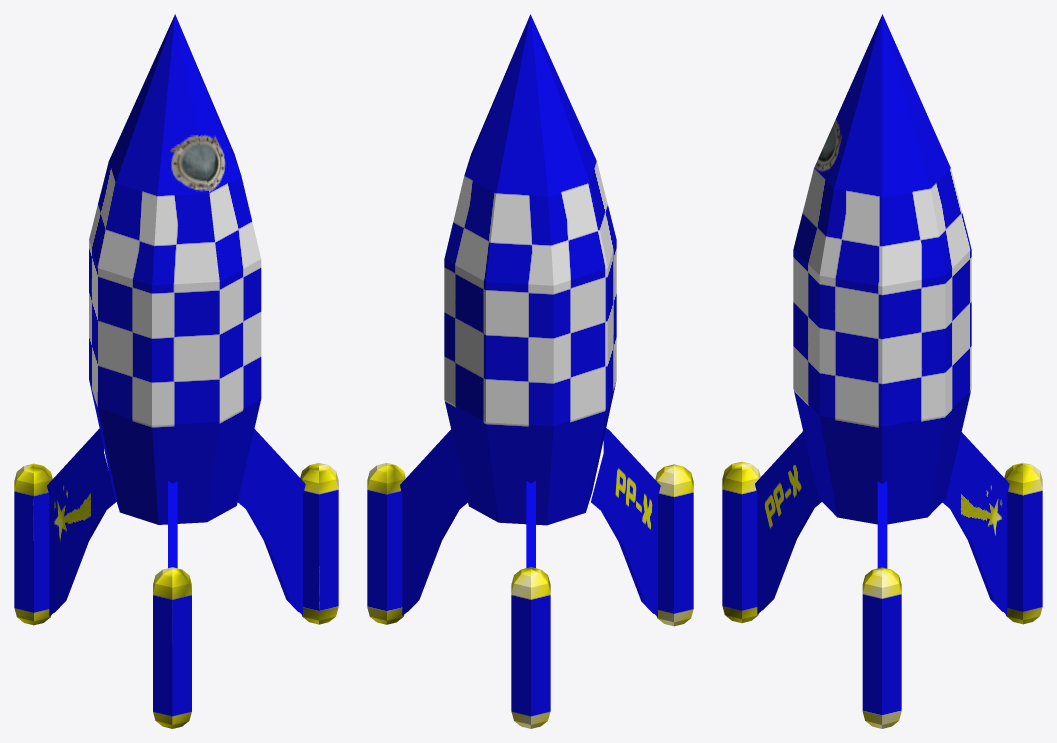
Rendered from rocket.obj.
The picture shows the model from 3 angles, left to right: view 1: azimuth 30°, elevation 25°; view 2: azimuth 150°, elevation 25°; view 3: azimuth 270°, elevation 25°; orthographic projection.
Visible parts, largest first — view 1: Rocket, wing03, wing01, reactor02, reactor01, reactor03, wing02; view 2: Rocket, wing02, wing01, reactor03, reactor02, reactor01, wing03; view 3: Rocket, wing03, wing02, reactor01, reactor03, reactor02, wing01.
Part boxes in pixels (box(x1,y1,x2,y2)): Rocket: box(89, 14, 261, 524); wing03: box(47, 428, 116, 616); wing01: box(237, 429, 305, 614); reactor02: box(153, 567, 191, 728); reactor01: box(300, 463, 338, 624); reactor03: box(14, 463, 52, 625); wing02: box(168, 481, 177, 568); Rocket: box(444, 14, 616, 525); wing02: box(591, 428, 660, 616); wing01: box(400, 429, 467, 615); reactor03: box(511, 567, 550, 728); reactor02: box(655, 464, 693, 626); reactor01: box(367, 463, 405, 624); wing03: box(526, 480, 535, 567); Rocket: box(793, 14, 971, 524); wing03: box(942, 432, 1009, 614); wing02: box(755, 431, 821, 614); reactor01: box(862, 567, 901, 728); reactor03: box(1004, 462, 1042, 624); reactor02: box(722, 461, 760, 623); wing01: box(877, 481, 887, 568).
Size of the model in its own units: 165 by 396 by 179.
Materials: 1 (1 with a texture image).
